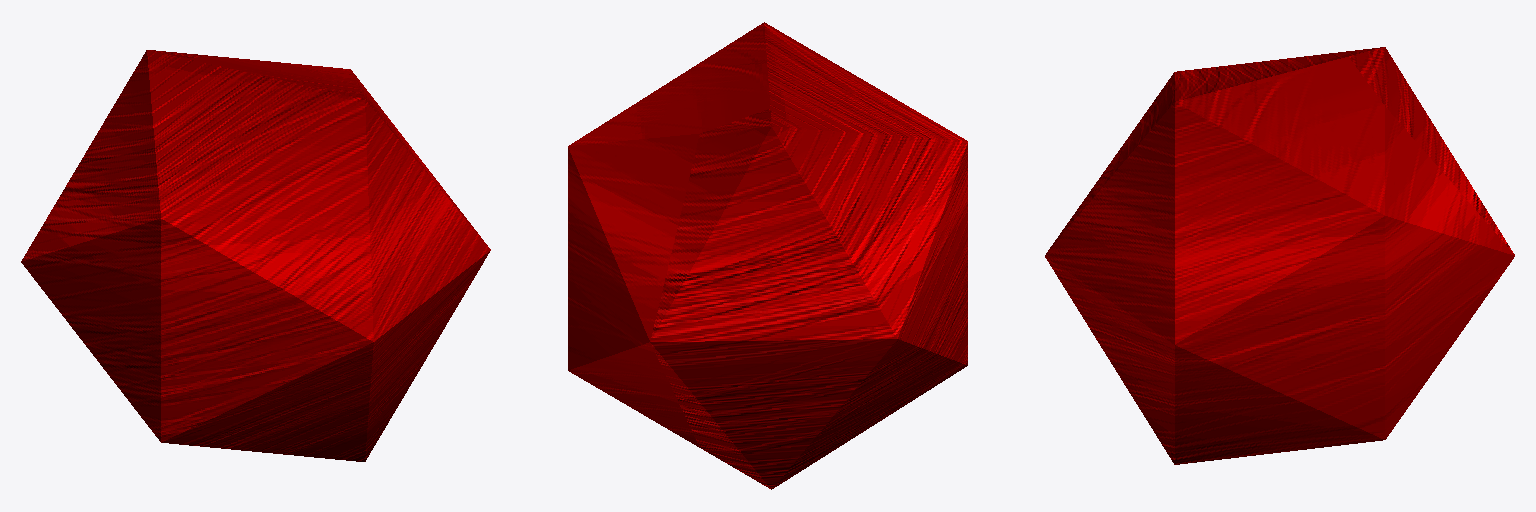
The picture shows the model from 3 angles: view 1: azimuth 30°, elevation 25°; view 2: azimuth 150°, elevation 25°; view 3: azimuth 270°, elevation 25°; orthographic projection.
Parts seen in each view (by area): view 1: pPlatonic1; view 2: pPlatonic1; view 3: pPlatonic1.
Part boxes in pixels (left/top/right/bottom): pPlatonic1: left=21, top=50, right=490, bottom=461; pPlatonic1: left=568, top=22, right=967, bottom=489; pPlatonic1: left=1045, top=47, right=1514, bottom=464.
Bounding box in the file's own units: 1.79 × 1.7 × 2.
Materials: 1 (1 with a texture image).